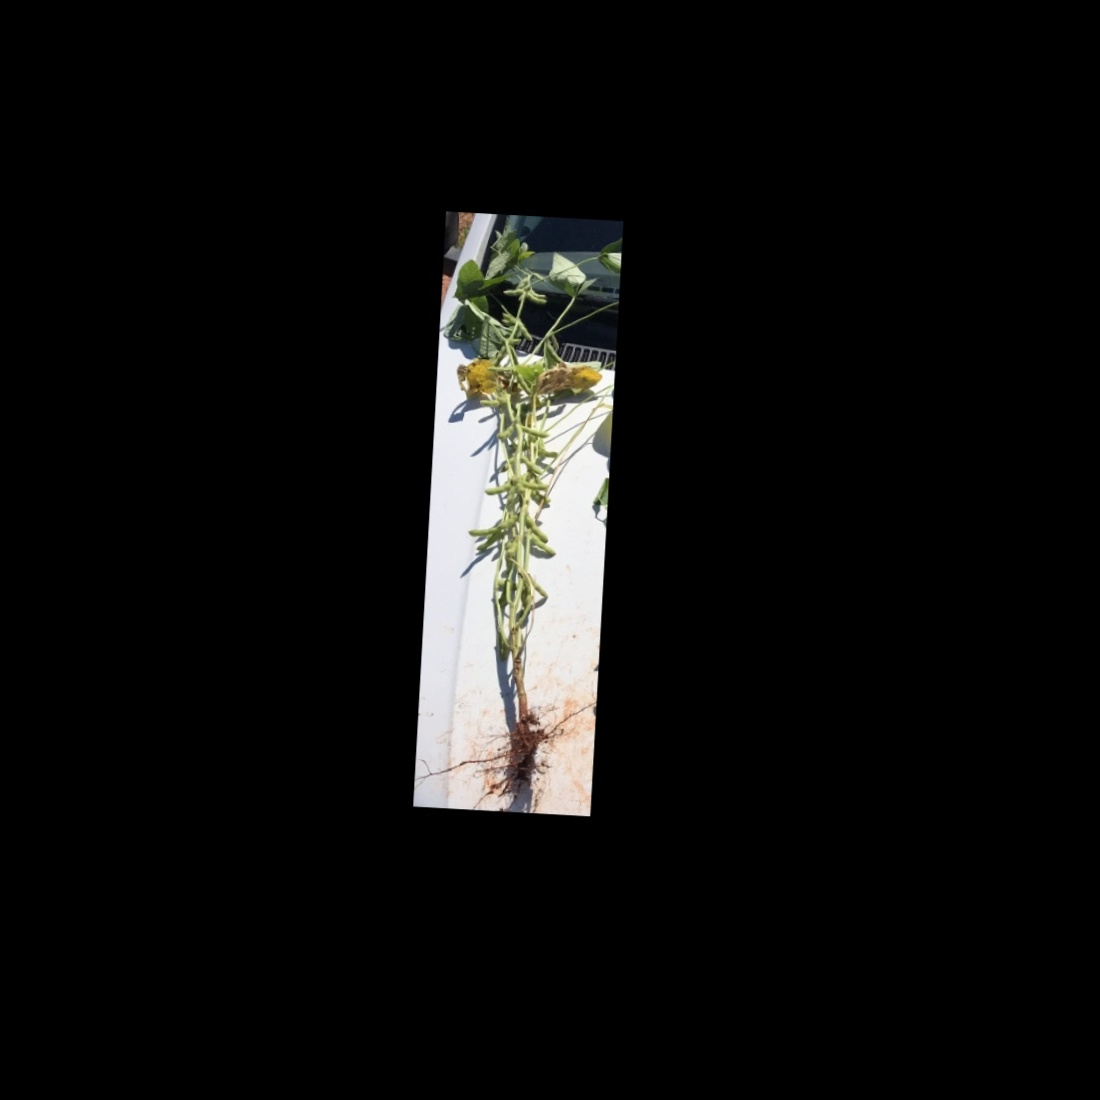pod: (521, 512, 550, 544), (467, 520, 505, 540), (495, 509, 523, 535), (529, 535, 558, 559), (527, 571, 551, 600), (517, 452, 546, 475), (480, 477, 516, 497), (495, 419, 519, 444), (519, 423, 551, 439), (476, 396, 507, 411), (520, 477, 551, 492), (517, 322, 535, 343)
soy: (426, 230, 615, 796)
